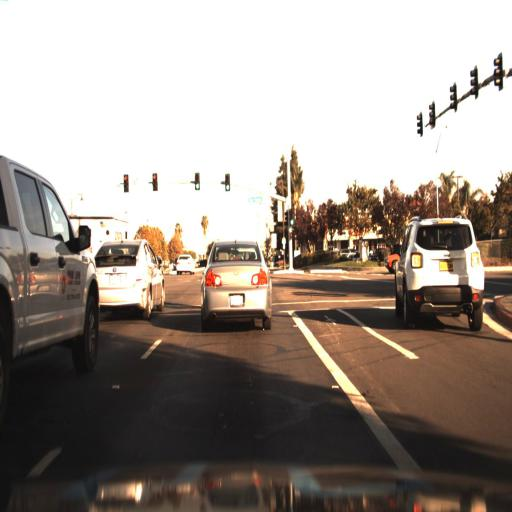car: (0, 136, 102, 410), (389, 211, 496, 335), (187, 224, 287, 345), (90, 239, 166, 318), (60, 198, 139, 253), (12, 230, 49, 280), (385, 241, 413, 276), (172, 242, 195, 282), (384, 245, 400, 282)
trafficLight: (151, 166, 162, 200), (122, 168, 131, 194), (193, 170, 202, 194)
trafficLight-Green: (219, 166, 236, 206), (191, 170, 201, 199), (284, 204, 293, 236), (286, 203, 295, 226)
trafficLight-Red: (223, 168, 232, 194)
trafficLight-RedLeft: (121, 164, 132, 196)
